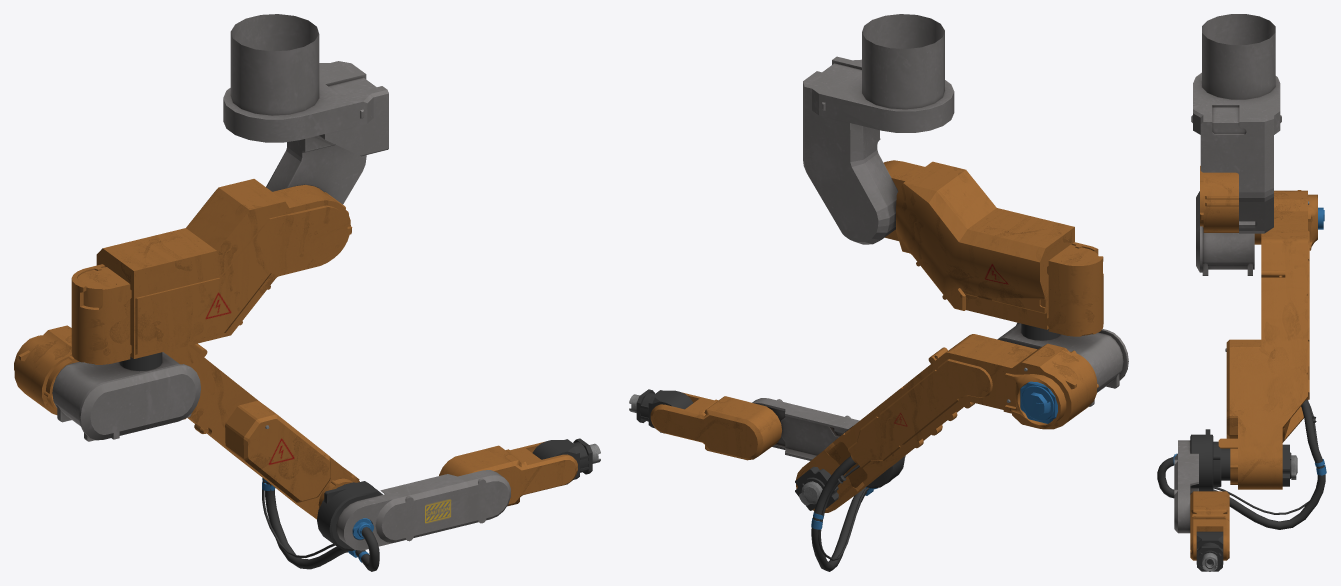
The model's file is LongRoboticARM4.fbx.
The picture shows the model from 3 angles, left to right: view 1: azimuth 30°, elevation 25°; view 2: azimuth 150°, elevation 25°; view 3: azimuth 270°, elevation 25°; orthographic projection. The views are drawn at different scales.
Visible parts, largest first — view 1: LongRoboticARM4; view 2: LongRoboticARM4; view 3: LongRoboticARM4.
Part boxes in pixels (x1,y1,x2,y2): LongRoboticARM4: (14,14,600,571); LongRoboticARM4: (629,14,1128,571); LongRoboticARM4: (1157,14,1326,571).
Size of the model in its own units: 219 by 226 by 72.45.
